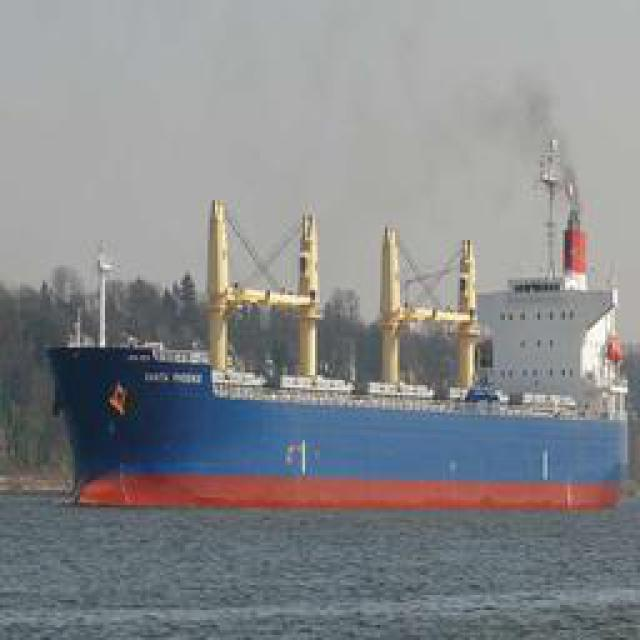Ship: (47, 207, 625, 505)
